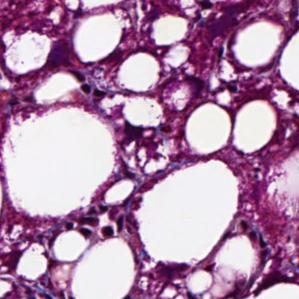inflammation: (59, 202, 129, 242), (70, 68, 118, 102)
